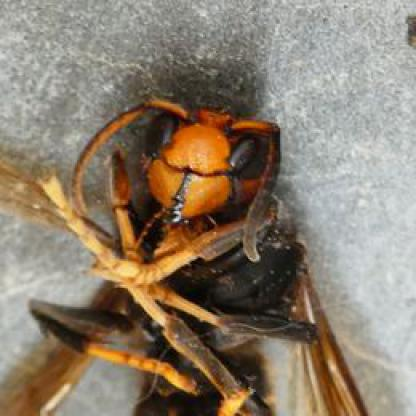Asian Hornet: (55, 87, 370, 415)
